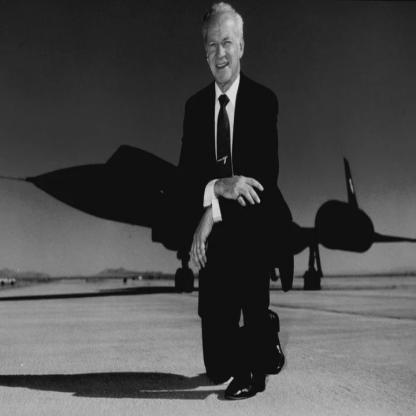SR71: (2, 143, 416, 296)
